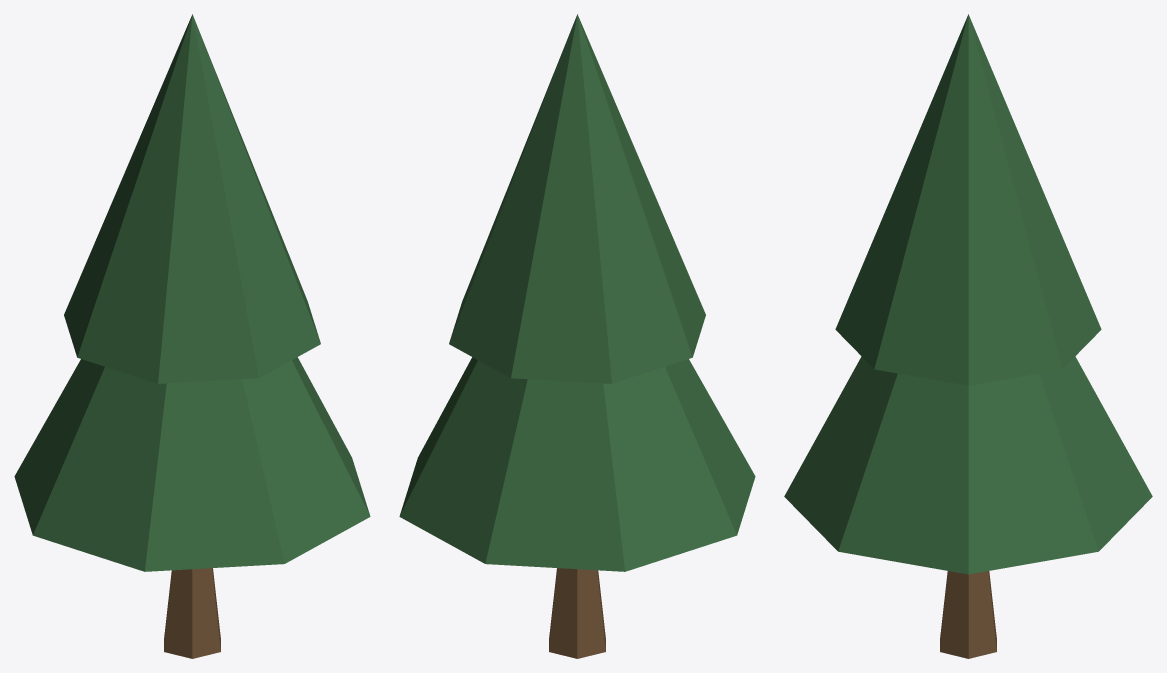
File: pine.glb
3 views of the same model, side by side, from view 1: azimuth 30°, elevation 25°; view 2: azimuth 150°, elevation 25°; view 3: azimuth 270°, elevation 25° (orthographic).
Bounding box in the file's own units: 1.8 × 3.4 × 1.8.
